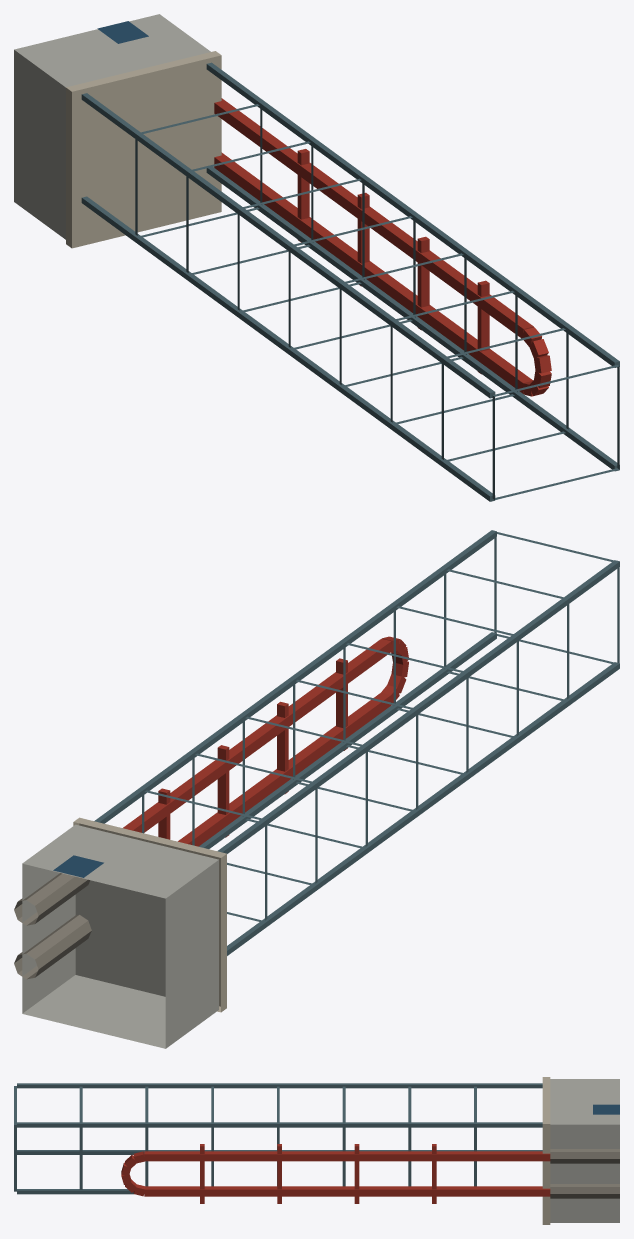
File: construction_1.glb
The picture shows the model from 3 angles, top to bottom: view 1: azimuth 30°, elevation 25°; view 2: azimuth 150°, elevation 25°; view 3: azimuth 270°, elevation 25°; orthographic projection. The views are drawn at different scales.
Visible parts, largest first — view 1: construction_1; view 2: construction_1; view 3: construction_1.
Boxes of the visible parts, x1,y1,x2,y2 form: construction_1: (14, 14, 619, 501); construction_1: (14, 530, 619, 1048); construction_1: (14, 1077, 619, 1224).
Bounding box in the file's own units: 15 × 14.4 × 78.38.
